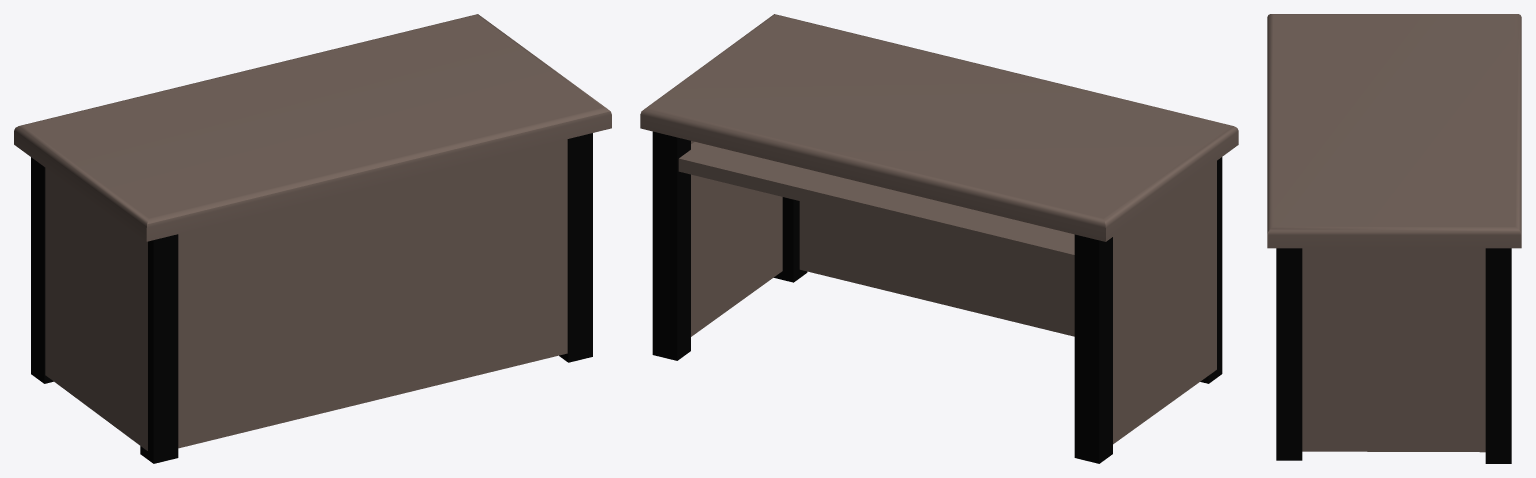
Rendered from New Teacher_Desk.fbx.
3 renders of one model, left to right at view 1: azimuth 30°, elevation 25°; view 2: azimuth 150°, elevation 25°; view 3: azimuth 270°, elevation 25°, orthographic. The views are drawn at different scales.
Visible parts, largest first — view 1: pCube8, pCube2, pCube9, pCube5, pCube6, pCube4; view 2: pCube2, pCube9, pCube8, pCube7, pCube10, pCube4, pCube3, pCube6, pCube5; view 3: pCube2, pCube10, pCube3, pCube6.
Part boxes in pixels (box(x1,y1,x2,y2)): pCube8: box(178, 139, 567, 448); pCube2: box(14, 14, 611, 241); pCube9: box(45, 168, 147, 450); pCube5: box(140, 234, 178, 463); pCube6: box(559, 133, 592, 362); pCube4: box(31, 157, 53, 383); pCube2: box(640, 14, 1238, 241); pCube9: box(1113, 161, 1216, 444); pCube8: box(799, 201, 1074, 336); pCube7: box(678, 142, 1074, 267); pCube10: box(691, 141, 782, 336); pCube4: box(1074, 234, 1112, 463); pCube3: box(652, 131, 690, 360); pCube6: box(773, 197, 807, 282); pCube5: box(1200, 157, 1222, 383); pCube2: box(1267, 14, 1521, 248); pCube10: box(1302, 248, 1485, 452); pCube3: box(1485, 248, 1511, 463); pCube6: box(1276, 248, 1302, 460).
Bounding box in the file's own units: 1.51 × 0.7692 × 0.7451.
